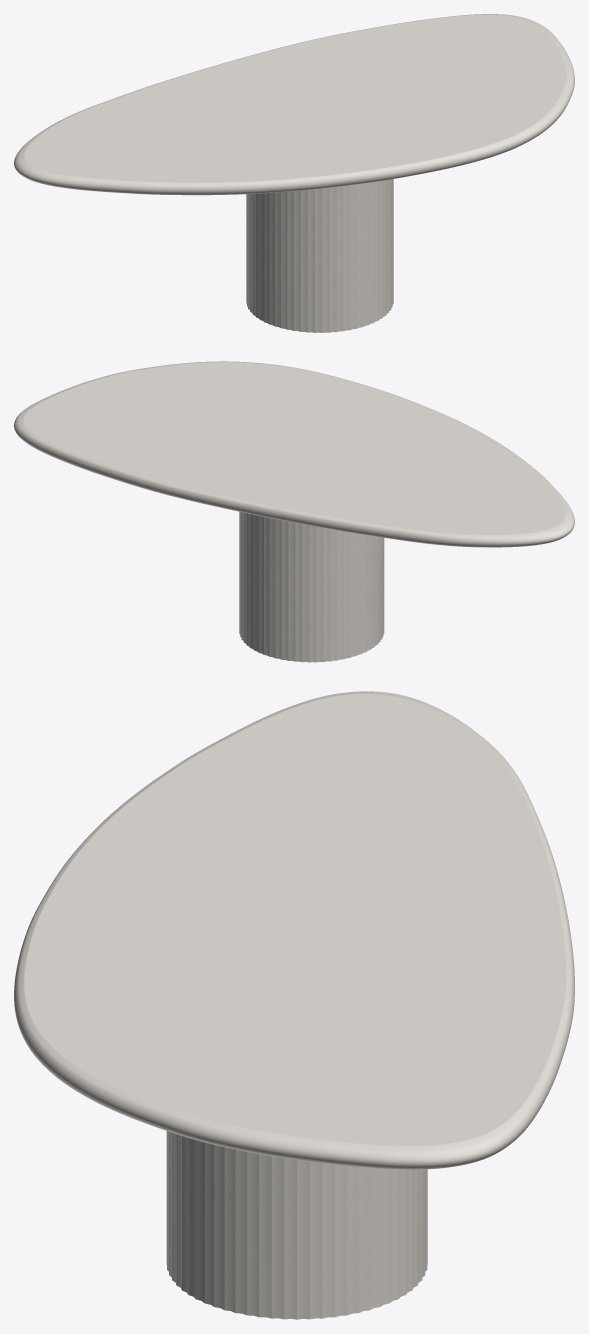
The model's file is pearlwhite_pebbletop_round_ripple.glb.
3 renders of one model, top to bottom at view 1: azimuth 30°, elevation 25°; view 2: azimuth 150°, elevation 25°; view 3: azimuth 270°, elevation 25°, orthographic. The views are drawn at different scales.
Parts seen in each view (by area): view 1: round_pebbletop, ripple; view 2: round_pebbletop, ripple; view 3: round_pebbletop, ripple.
Boxes of the visible parts, x1,y1,x2,y2 form: round_pebbletop: (14, 14, 574, 195); ripple: (246, 179, 393, 332); round_pebbletop: (14, 361, 574, 547); ripple: (239, 511, 384, 662); round_pebbletop: (14, 691, 574, 1169); ripple: (166, 1131, 427, 1319).
Bounding box in the file's own units: 7.5 × 2.51 × 3.8.
1 material, 1 textured.
